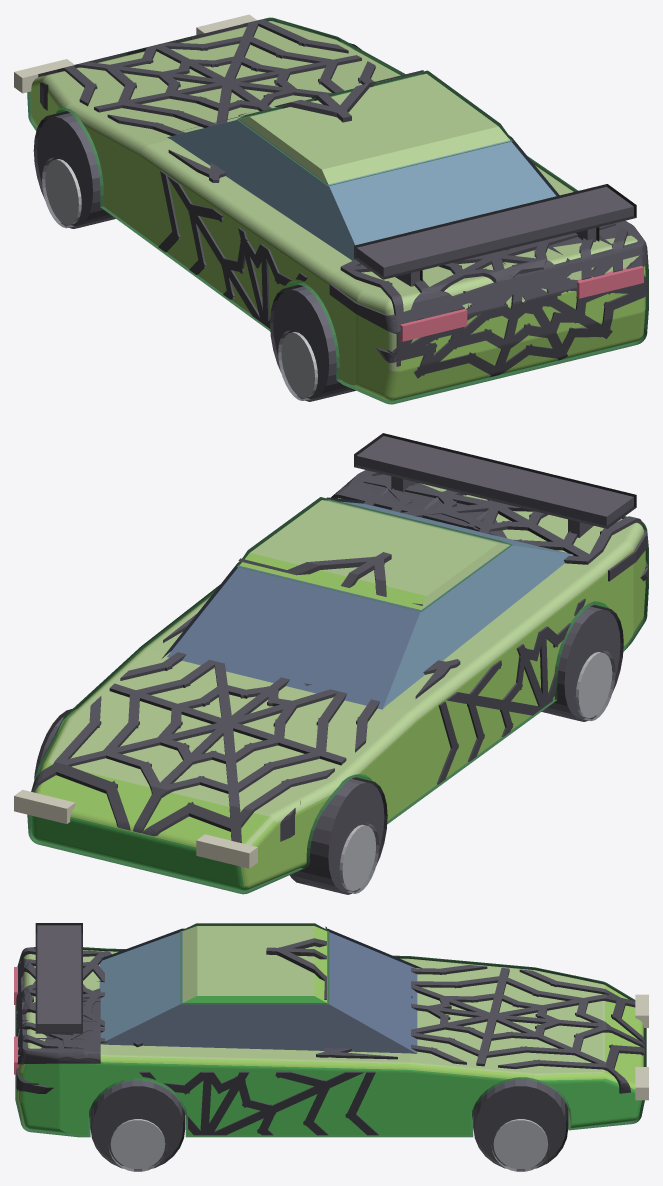
Rendered from car_stinger_3.glb.
3 renders of one model, top to bottom at view 1: azimuth 30°, elevation 25°; view 2: azimuth 150°, elevation 25°; view 3: azimuth 270°, elevation 25°, orthographic. The views are drawn at different scales.
Visible parts, largest first — view 1: car; view 2: car; view 3: car.
Part boxes in pixels (<box>): car: <box>14,14,648,404</box>; car: <box>14,433,648,894</box>; car: <box>14,923,648,1171</box>.
Bounding box in the file's own units: 2.05 × 1.24 × 4.61.
